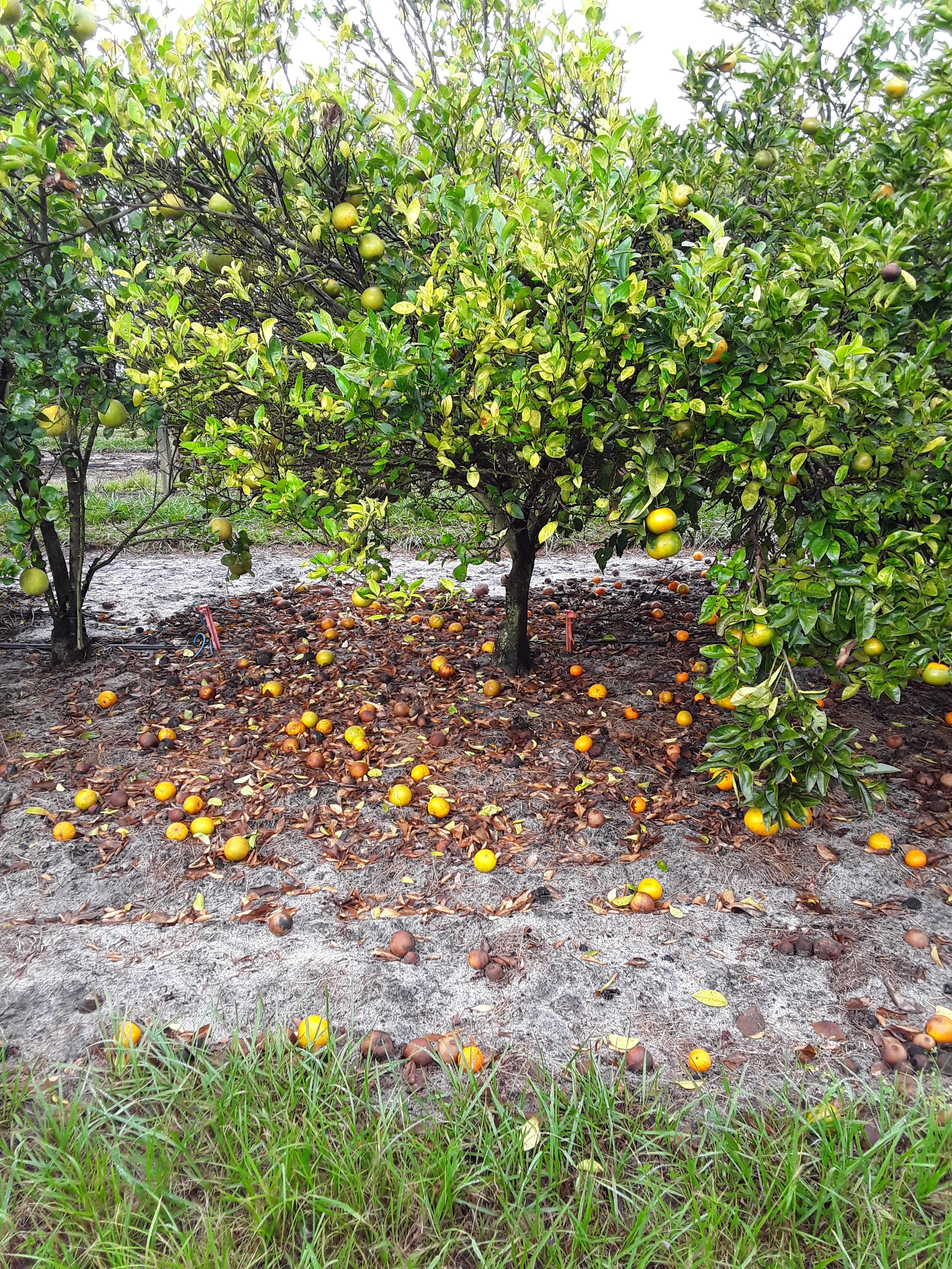fruit_on_ground: (32, 400, 72, 437), (63, 2, 100, 42), (693, 332, 732, 367), (18, 563, 51, 598), (95, 397, 128, 430), (328, 201, 361, 234), (646, 530, 682, 560), (646, 504, 679, 535), (155, 189, 188, 220), (746, 617, 778, 648), (868, 178, 900, 208), (200, 244, 233, 273), (356, 231, 387, 261), (920, 659, 952, 688), (665, 179, 694, 210), (881, 72, 912, 100), (223, 549, 254, 576), (662, 361, 691, 389), (847, 447, 875, 475), (359, 285, 387, 313), (206, 190, 236, 216), (207, 515, 234, 542), (724, 685, 754, 709), (0, 0, 26, 27), (751, 145, 777, 171), (877, 258, 903, 283), (724, 624, 749, 650), (799, 113, 824, 137), (860, 635, 885, 659), (673, 417, 697, 441), (716, 50, 740, 73), (350, 585, 374, 608), (259, 430, 283, 451), (762, 476, 784, 497), (321, 276, 343, 297), (366, 565, 389, 585), (235, 403, 255, 423), (376, 372, 396, 391), (689, 658, 708, 676)
fruit_on_tree: (295, 1014, 331, 1051), (741, 804, 780, 838), (806, 1101, 844, 1134), (257, 1023, 295, 1055), (359, 1031, 394, 1063), (735, 1005, 767, 1038), (810, 933, 844, 961), (457, 1043, 486, 1075), (404, 1037, 435, 1066), (222, 833, 252, 862), (114, 1019, 142, 1050), (624, 1045, 653, 1073), (784, 802, 814, 829), (925, 1013, 952, 1043), (472, 845, 499, 874), (388, 928, 415, 956), (634, 876, 663, 902), (267, 911, 294, 937), (686, 1047, 713, 1073), (73, 787, 101, 812), (882, 1040, 909, 1065), (386, 783, 413, 808), (902, 926, 931, 949), (856, 1124, 882, 1149), (51, 818, 77, 843), (437, 1038, 461, 1065), (866, 829, 893, 853), (427, 794, 452, 819), (712, 766, 736, 792), (903, 846, 929, 870), (189, 815, 216, 838), (629, 892, 656, 915), (152, 779, 177, 803), (909, 1030, 937, 1051), (793, 934, 817, 958), (164, 820, 189, 842), (907, 1049, 931, 1071), (467, 949, 490, 971), (96, 687, 119, 709), (183, 794, 205, 815), (347, 758, 369, 779), (399, 948, 422, 968), (107, 790, 130, 810), (261, 678, 284, 698), (486, 962, 508, 982), (156, 725, 178, 745), (933, 1104, 952, 1127), (344, 725, 367, 744), (313, 648, 336, 667), (409, 762, 430, 782), (166, 804, 188, 823), (586, 681, 608, 700), (663, 740, 683, 760), (586, 809, 606, 829), (304, 750, 326, 768), (138, 729, 158, 748), (628, 795, 648, 814), (573, 734, 593, 753), (482, 678, 502, 697), (252, 649, 273, 667), (429, 654, 450, 672), (300, 709, 319, 728), (569, 772, 589, 790), (429, 729, 450, 746), (197, 683, 216, 701), (471, 580, 490, 598), (284, 719, 304, 736), (280, 737, 301, 753), (316, 716, 334, 734), (675, 708, 693, 726), (721, 694, 740, 711), (392, 700, 411, 717), (885, 732, 904, 749), (437, 577, 456, 593), (937, 769, 952, 789), (505, 752, 523, 768), (690, 659, 708, 675), (479, 638, 496, 654), (657, 688, 674, 704), (427, 614, 445, 629), (74, 758, 90, 774), (234, 656, 251, 671), (439, 664, 456, 679), (622, 704, 639, 719), (378, 669, 396, 683), (812, 695, 828, 710), (446, 619, 462, 634), (568, 662, 584, 677), (319, 616, 336, 630), (358, 703, 376, 716), (294, 639, 309, 654), (675, 669, 690, 684), (651, 631, 667, 645), (543, 600, 559, 614), (702, 612, 718, 626), (339, 615, 355, 629), (358, 710, 376, 722), (677, 580, 691, 595), (367, 597, 383, 610), (323, 629, 340, 641), (291, 581, 306, 594), (692, 690, 707, 703), (675, 628, 690, 641), (464, 626, 480, 638), (942, 708, 952, 727), (497, 573, 511, 586), (270, 580, 284, 592), (565, 607, 579, 619), (277, 598, 291, 610), (691, 550, 705, 562), (592, 584, 606, 596), (657, 575, 672, 586), (540, 586, 555, 597), (409, 613, 422, 625), (651, 607, 664, 619), (667, 580, 680, 592), (697, 568, 709, 580), (590, 574, 603, 585), (525, 606, 537, 617), (682, 611, 694, 622), (612, 579, 623, 590), (271, 597, 284, 606)
